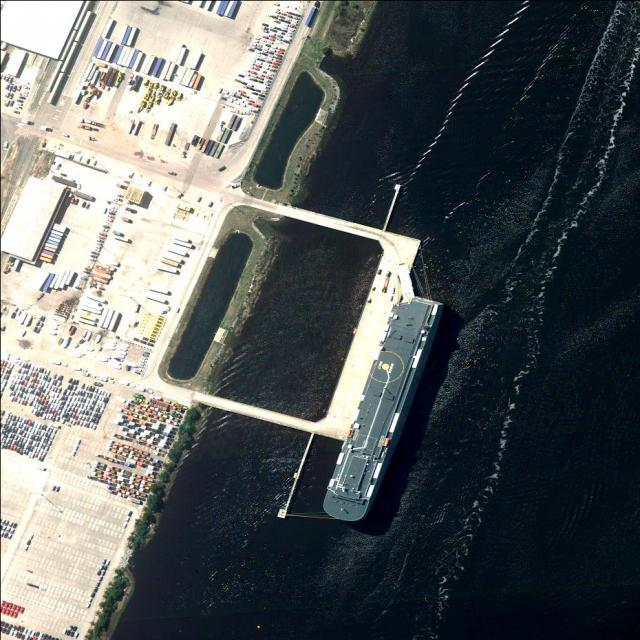Dock: (319, 228, 421, 445)
RoRo: (317, 277, 441, 533)
